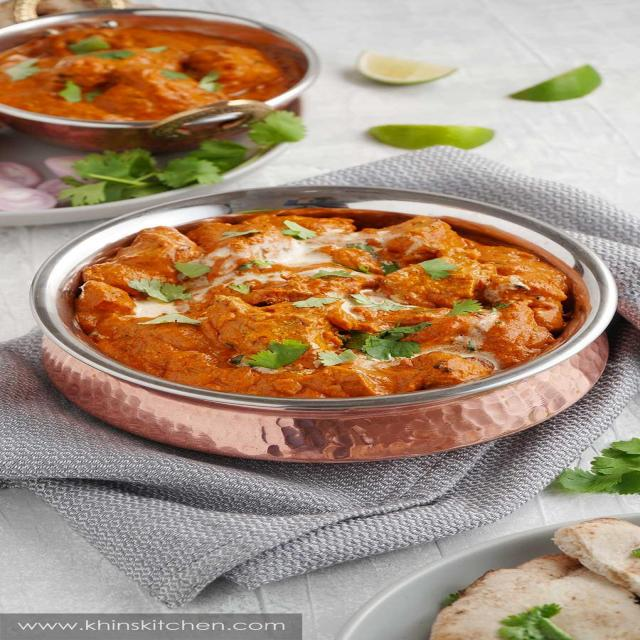chicken: (82, 205, 597, 402)
